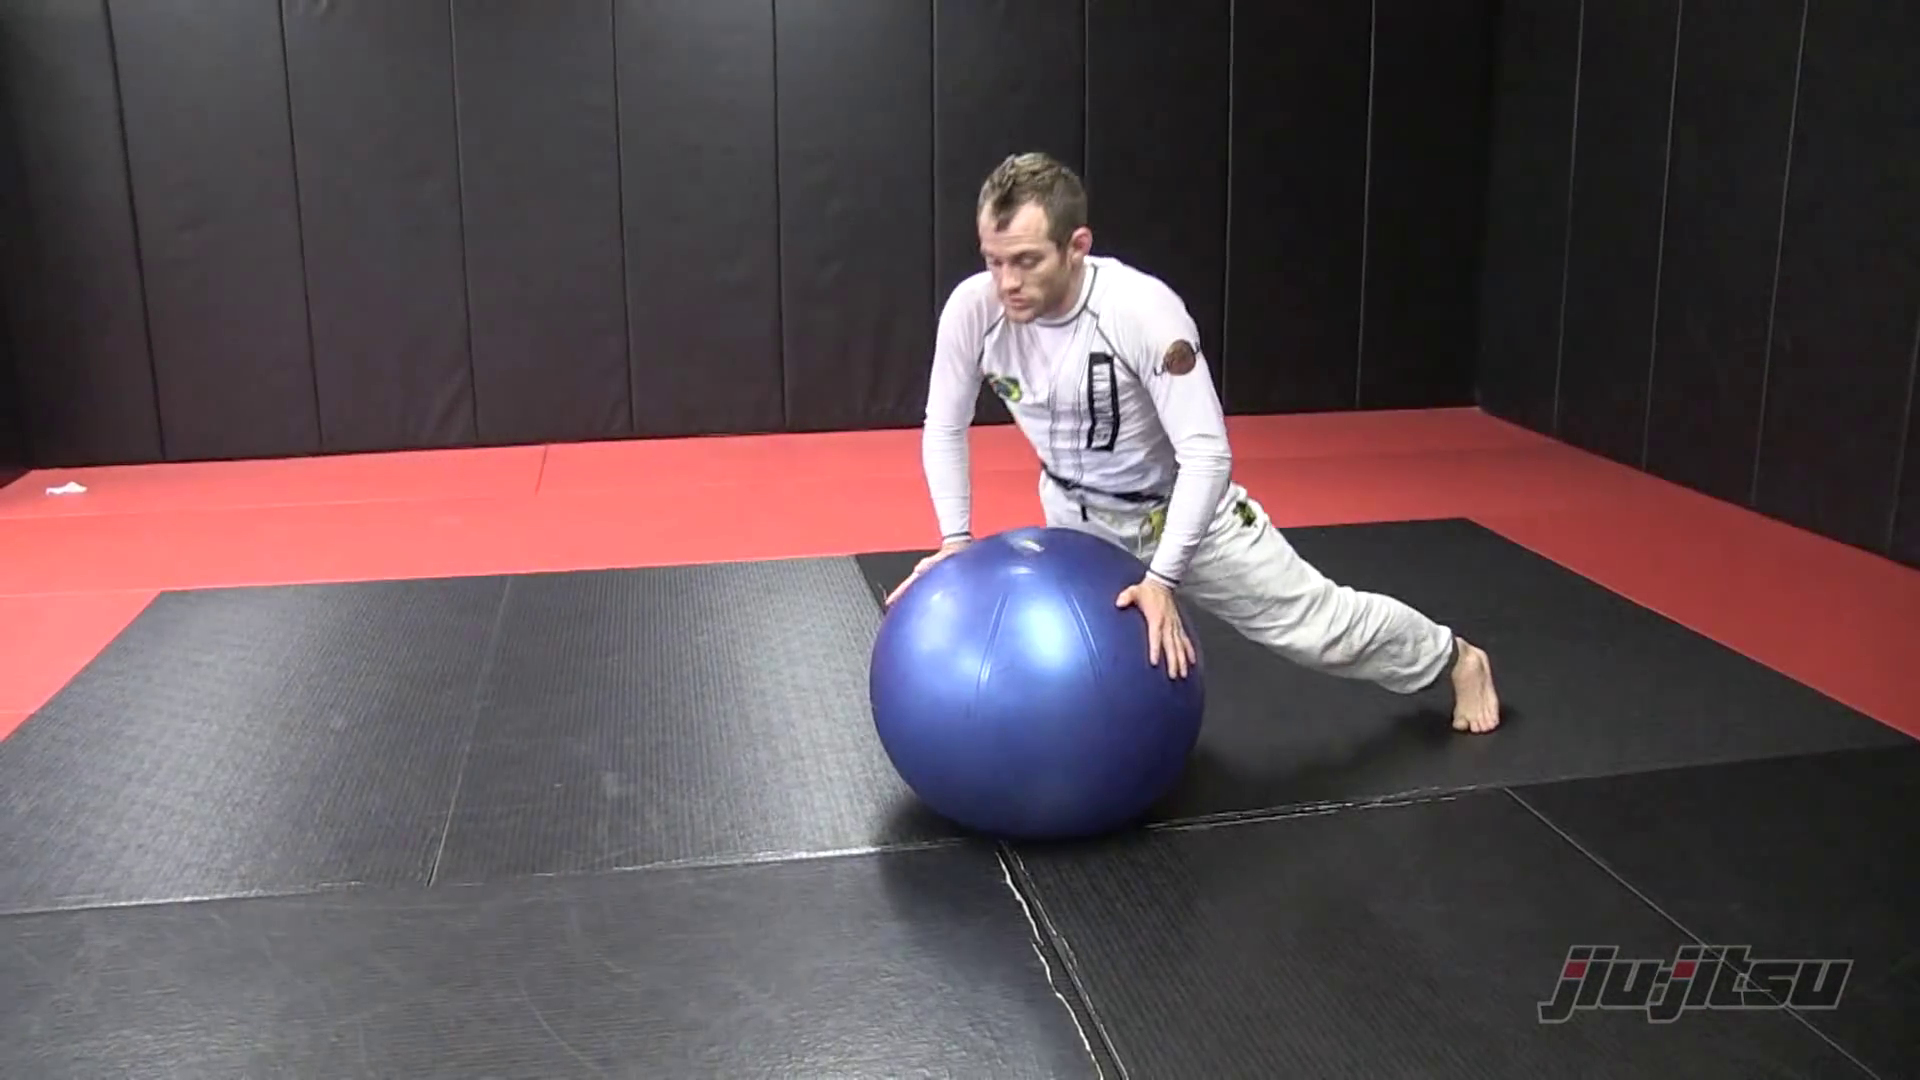yogaball: (855, 514, 1226, 851)
